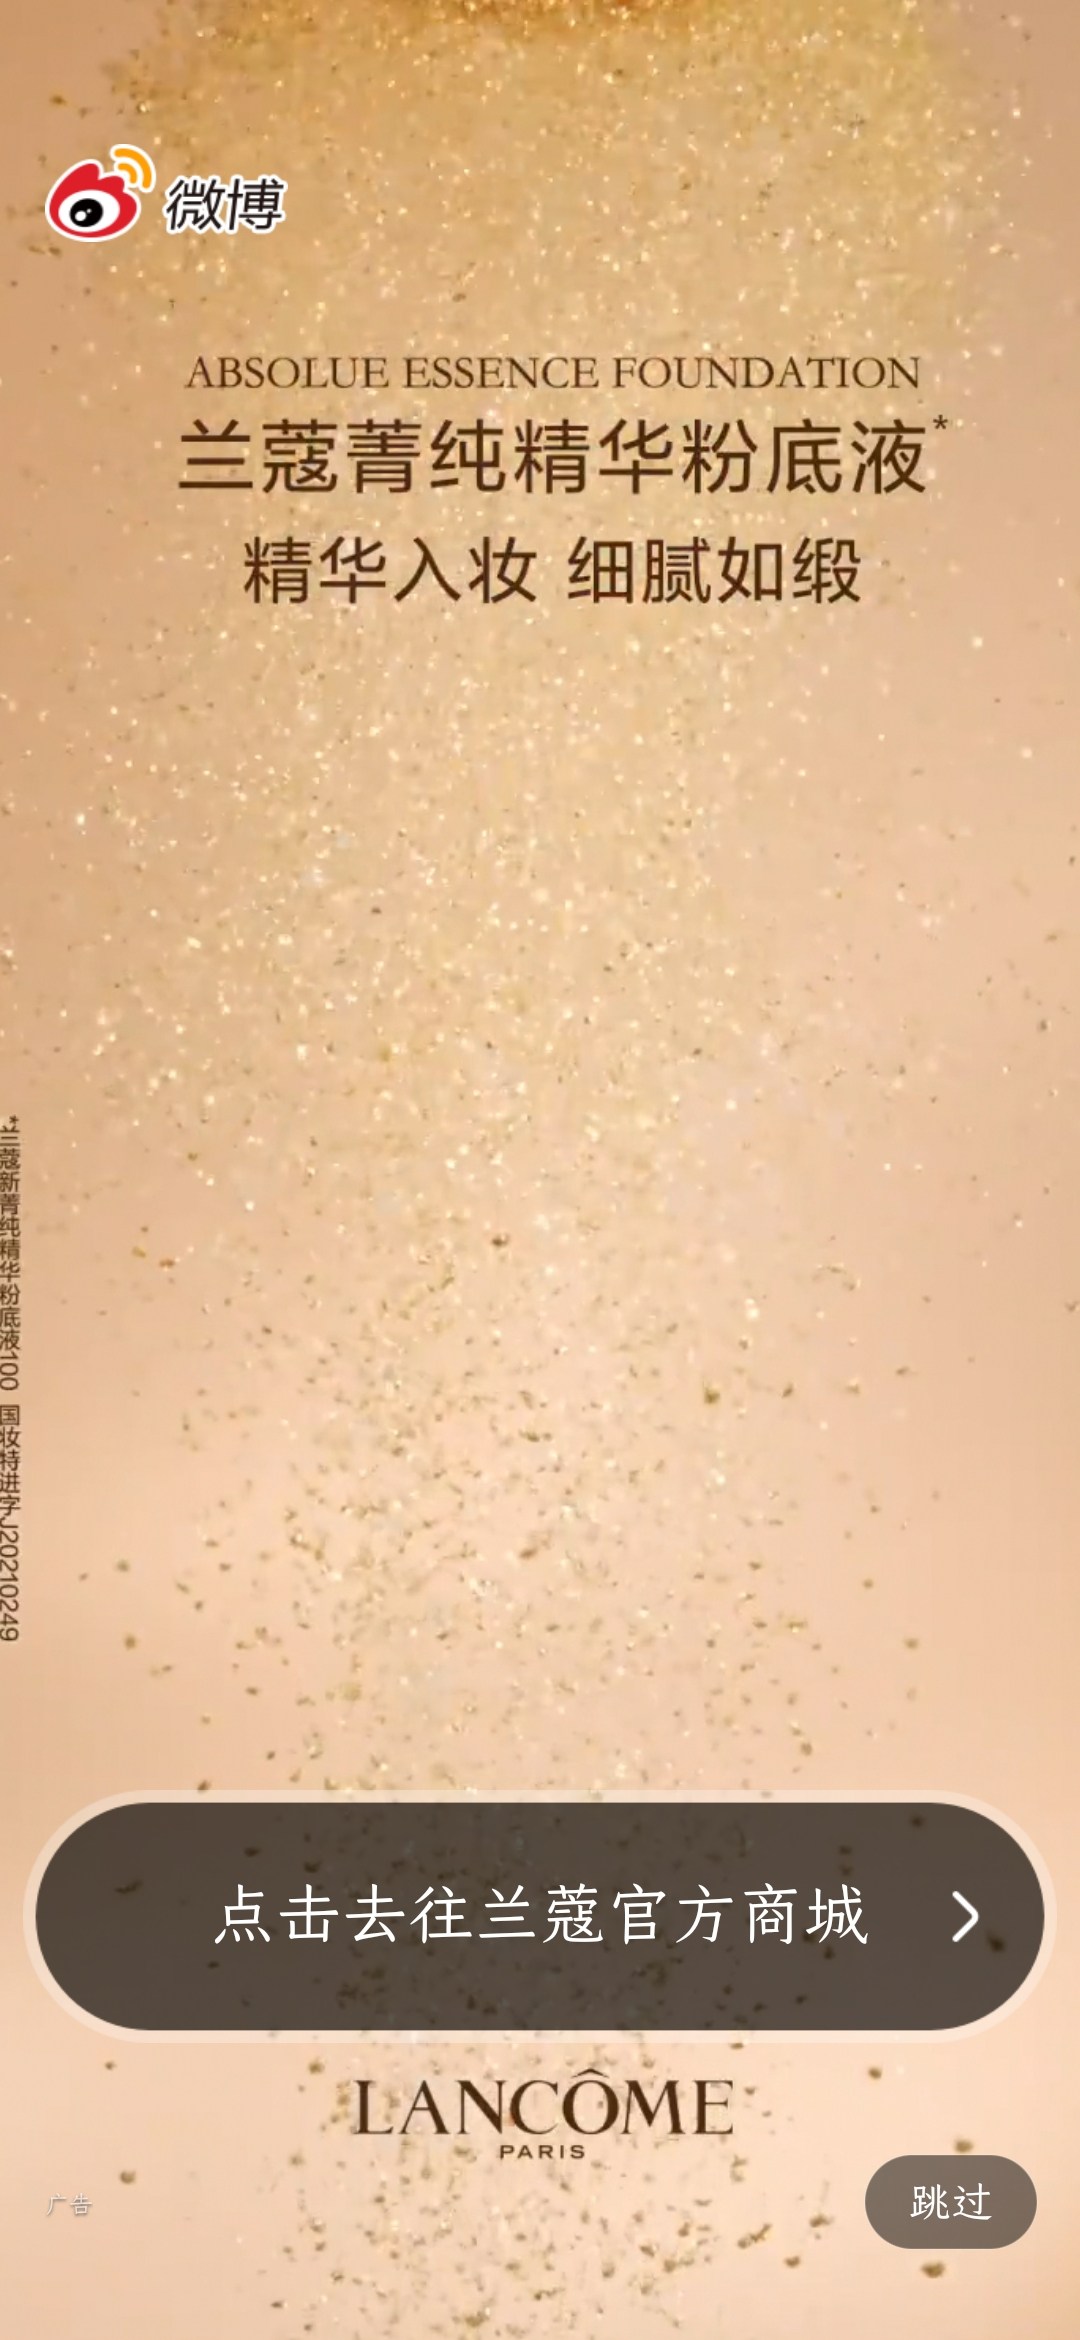skip: (879, 2164, 1026, 2244)
